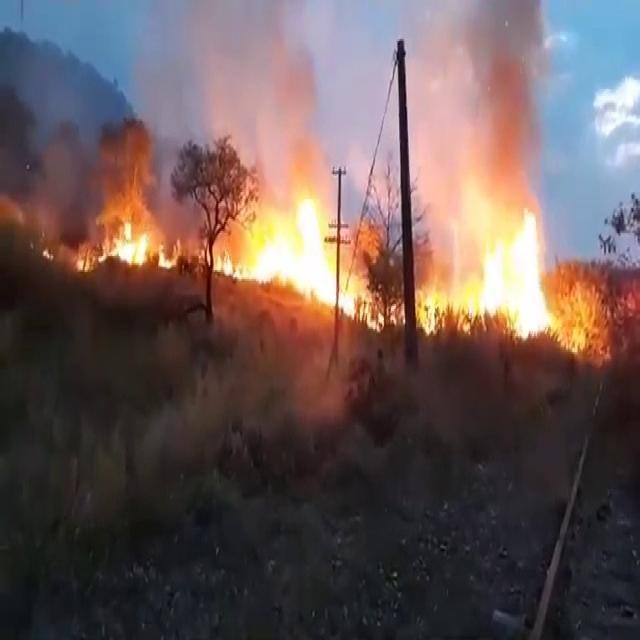Fire: (242, 192, 384, 336), (461, 205, 578, 358), (88, 206, 171, 271)
Smoke: (121, 308, 403, 508), (405, 0, 556, 217), (182, 0, 344, 193)
